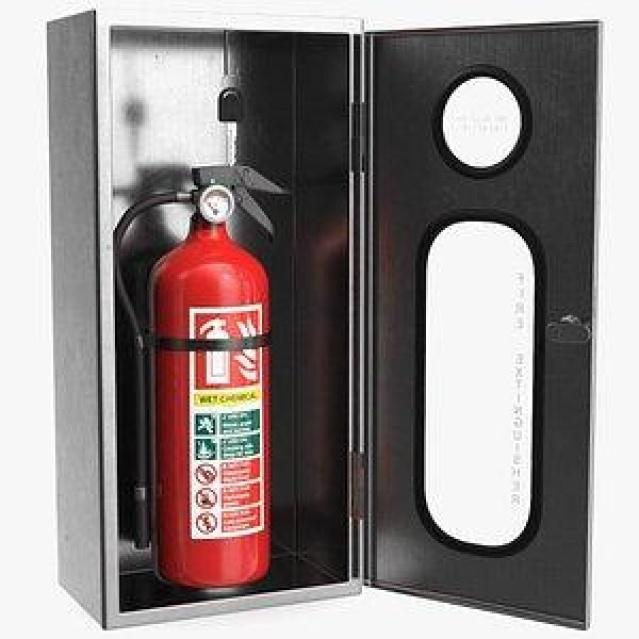APAR: (114, 163, 293, 589)
